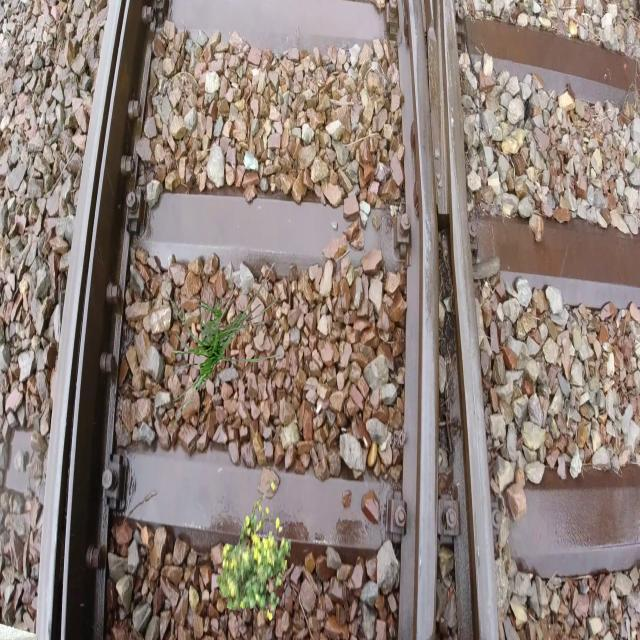Plant: (164, 261, 282, 424), (216, 481, 291, 621)
